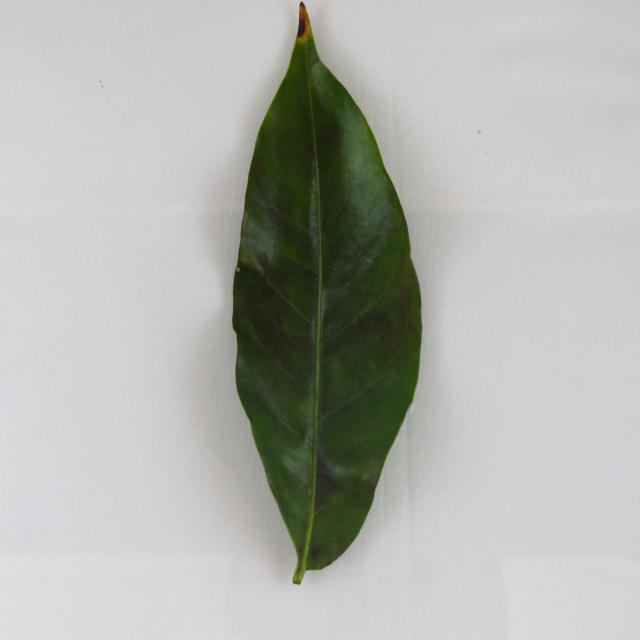DeficienciaNutricional-Potasio: (232, 3, 421, 583)
